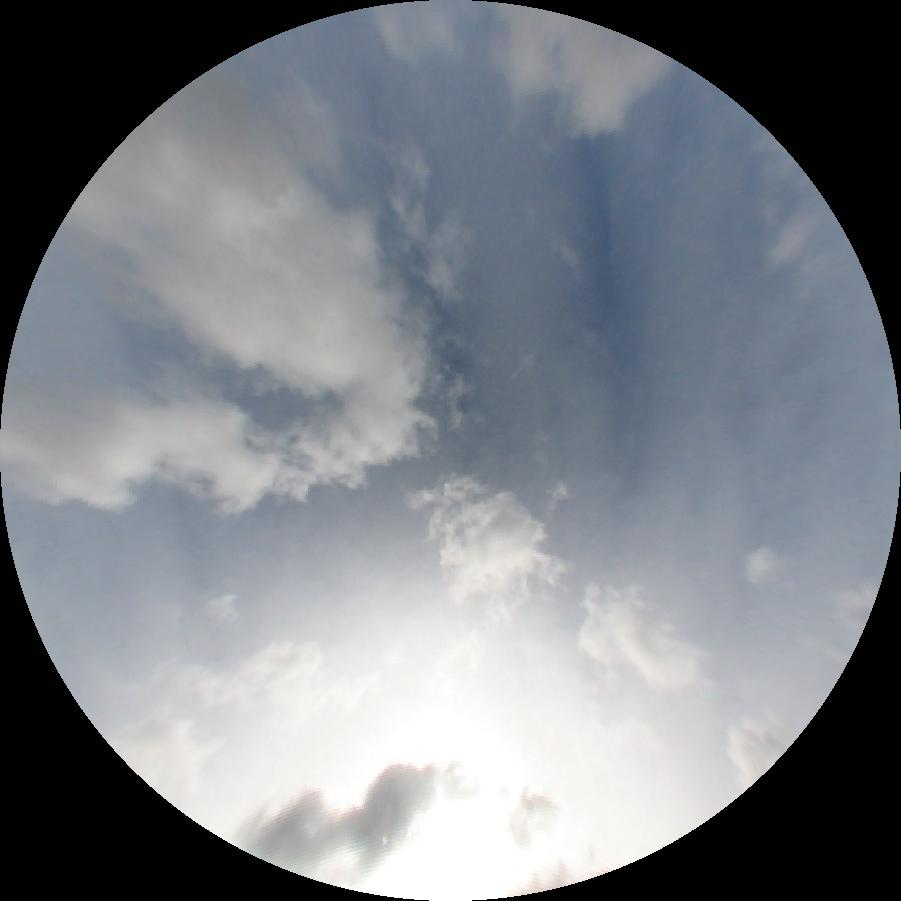sun: (397, 803, 533, 900)
